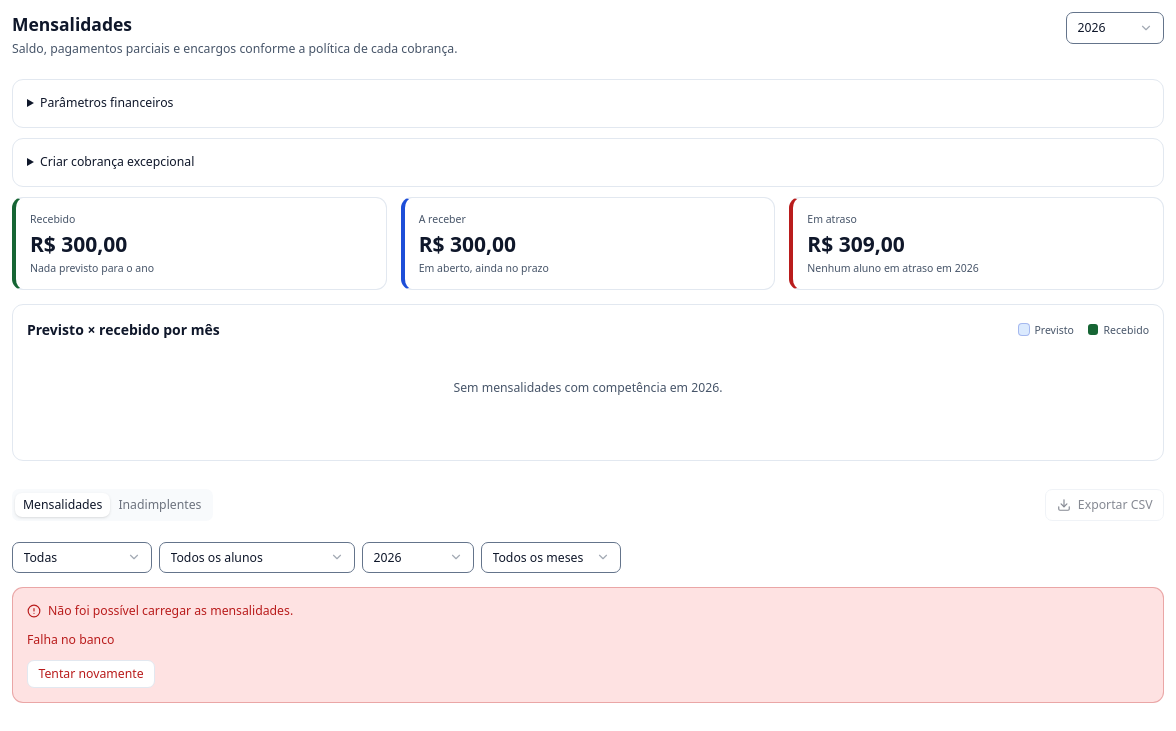
Test: mensalidades › erro na lista mostra a mensagem e permite tentar de novo
The image size is (1176, 731).
Expected: the text "Falha no banco" is shown, 27,631 -> 114,649
Click the button "Tentar novamente".
click(91, 674)  # box 27,660 -> 155,688
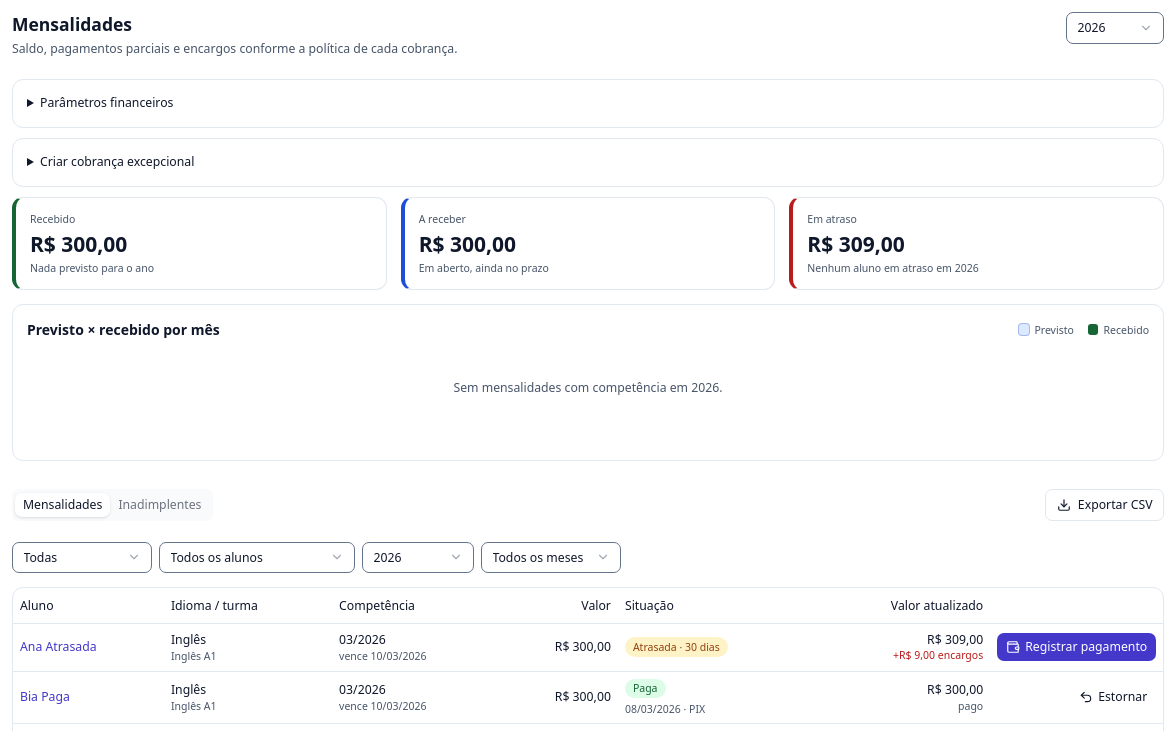
Expected: the link "Ana Atrasada" is shown, 20,638 -> 96,655
